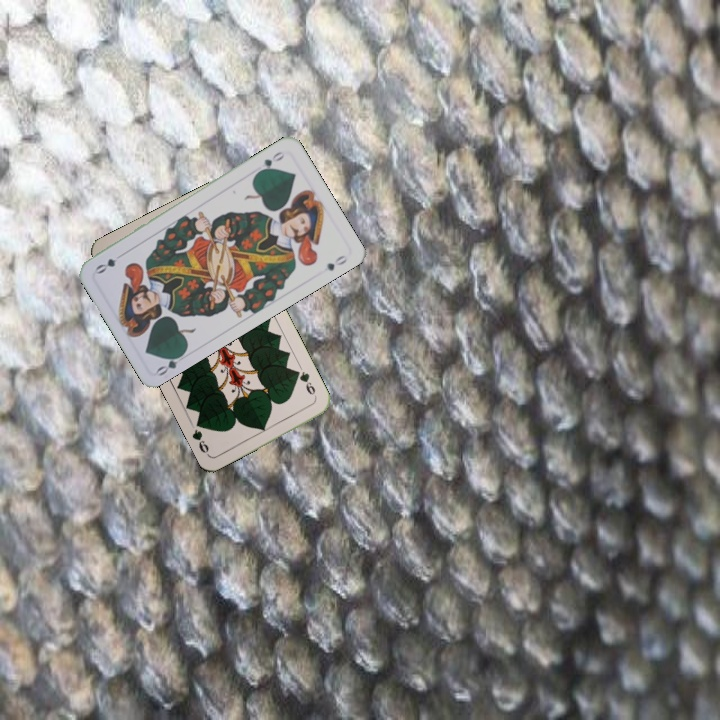G9: (291, 366, 320, 402)
GO: (153, 348, 188, 378), (253, 147, 287, 176)
